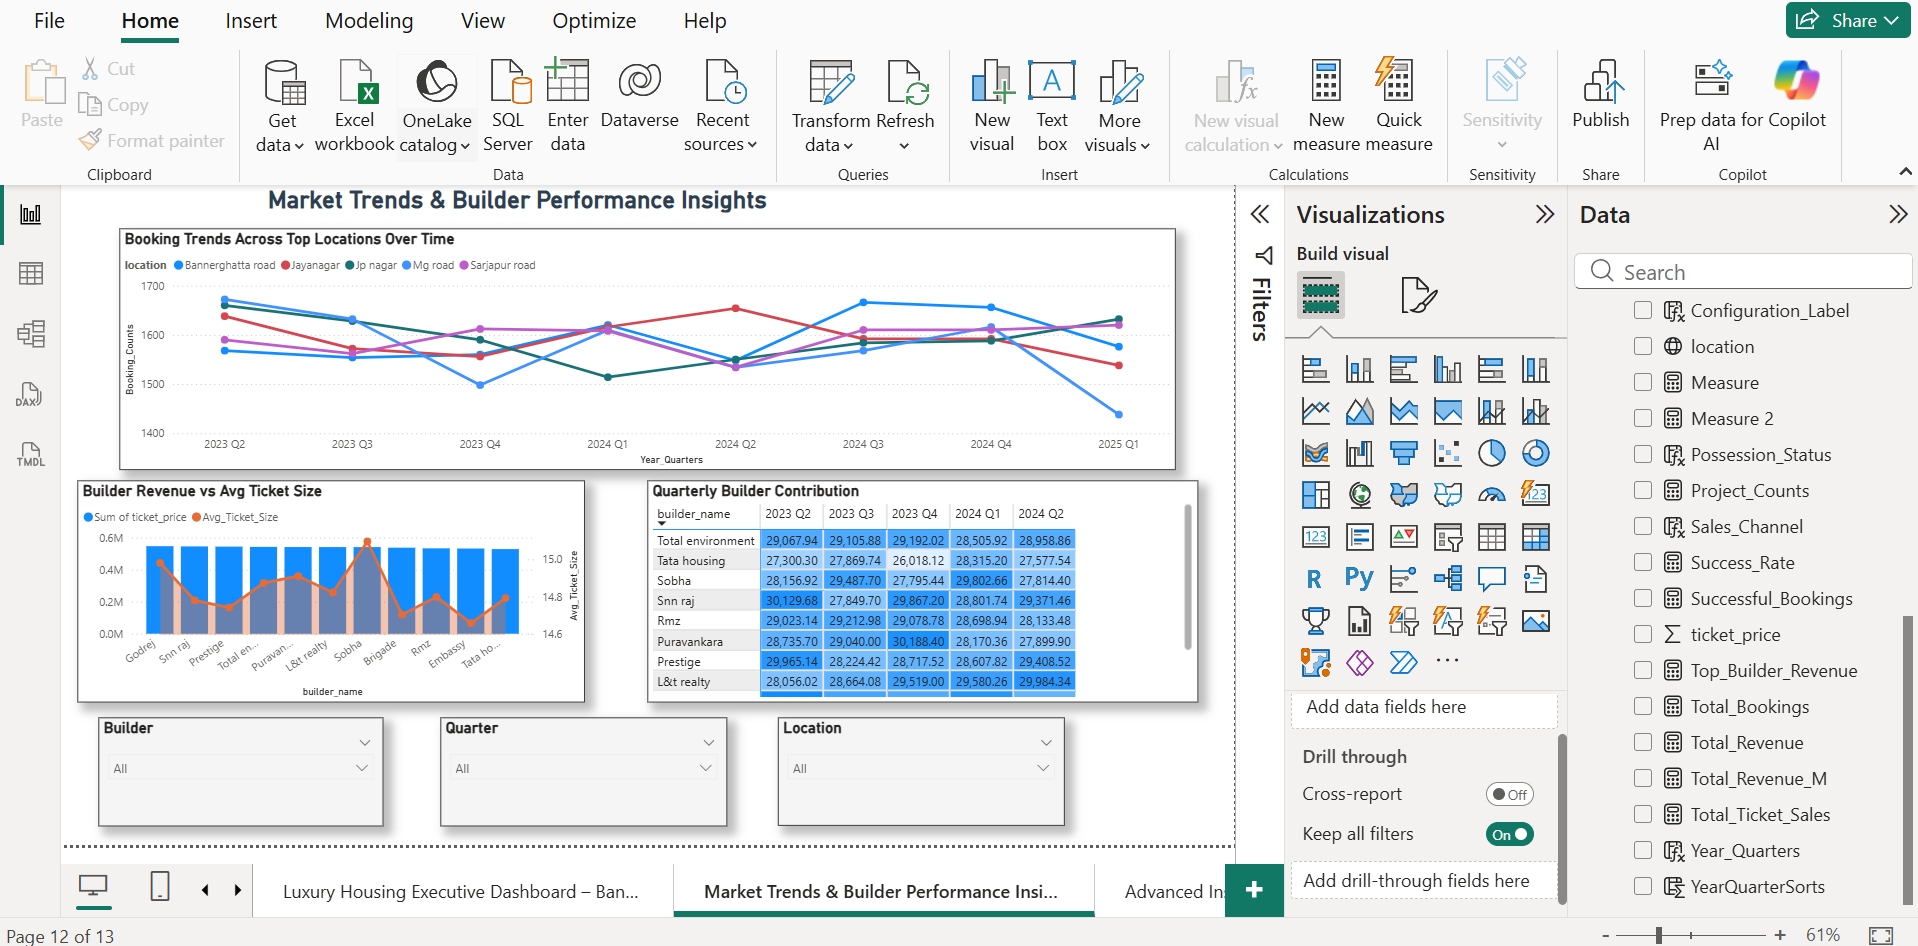

What the dashboard file says about the page in this screenshot:
{"tool":"powerbi","page":{"name":"Market Trends & Builder Performance Insights","canvas":[1280,720],"ordinal":11},"visuals":[{"type":"lineChart","title":"Booking Trends Across Top Locations Over Time","fields":{"Category":["luxuryhousingsales_db luxury_housing_new.Year_Quarters"],"Y":["luxuryhousingsales_db luxury_housing_new.Booking_Counts"],"Series":["luxuryhousingsales_db luxury_housing_new.location"]},"box":[63.8,47.4,1151.8,263.4],"z":0},{"type":"lineClusteredColumnComboChart","title":"Builder Revenue vs Avg Ticket Size","fields":{"Category":["luxuryhousingsales_db luxury_housing_new.builder_name"],"Y":["Sum(luxuryhousingsales_db luxury_housing_new.ticket_price)"],"Y2":["luxuryhousingsales_db luxury_housing_new.Avg_Ticket_Size"]},"box":[18,322.3,553,242.1],"z":1000},{"type":"pivotTable","title":"Quarterly Builder Contribution","fields":{"Rows":["luxuryhousingsales_db luxury_housing_new.builder_name"],"Columns":["luxuryhousingsales_db luxury_housing_new.Year_Quarters"],"Values":["Sum(luxuryhousingsales_db luxury_housing_new.ticket_price)"]},"box":[639.7,322.3,600.5,242.1],"z":2000},{"type":"slicer","title":"Builder","fields":{"Values":["luxuryhousingsales_db luxury_housing_new.builder_name"]},"box":[41.7,581.3,310.5,118.8],"z":3000},{"type":"slicer","title":"Quarter","fields":{"Values":["luxuryhousingsales_db luxury_housing_new.Year_Quarters"]},"box":[414.6,581.3,312.5,118.8],"z":4000},{"type":"slicer","title":"Location","fields":{"Values":["luxuryhousingsales_db luxury_housing_new.location"]},"box":[782.1,580.8,312.5,117.8],"z":5000},{"type":"textbox","title":"Market Trends & Builder Performance Insights","box":[220.3,0,839.3,36],"z":6000}]}

Visuals, with their boxes on the page's 1280x720 design canvas (x1, y1, x2, y2). These are canvas units, not pixel positions in the 1918x946 screenshot, which may show the page scaled, cropped or inside an application window:
"Booking Trends Across Top Locations Over Time" lineChart: x1=64 y1=47 x2=1216 y2=311
"Builder Revenue vs Avg Ticket Size" lineClusteredColumnComboChart: x1=18 y1=322 x2=571 y2=564
"Quarterly Builder Contribution" pivotTable: x1=640 y1=322 x2=1240 y2=564
"Builder" slicer: x1=42 y1=581 x2=352 y2=700
"Quarter" slicer: x1=415 y1=581 x2=727 y2=700
"Location" slicer: x1=782 y1=581 x2=1095 y2=699
"Market Trends & Builder Performance Insights" textbox: x1=220 y1=0 x2=1060 y2=36
